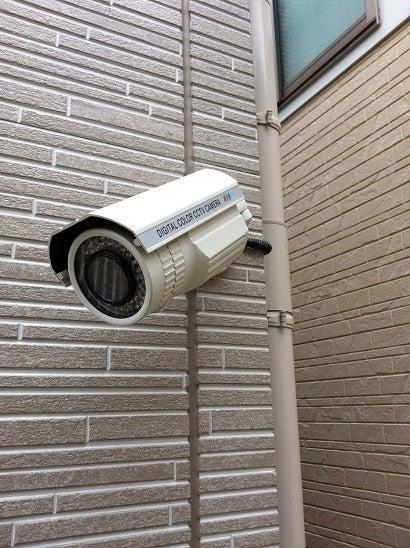tutu: (48, 165, 264, 326)
